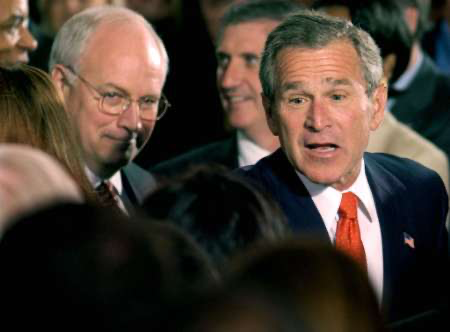Face: (71, 40, 171, 169), (279, 64, 370, 182), (217, 29, 271, 133), (0, 0, 42, 69)
